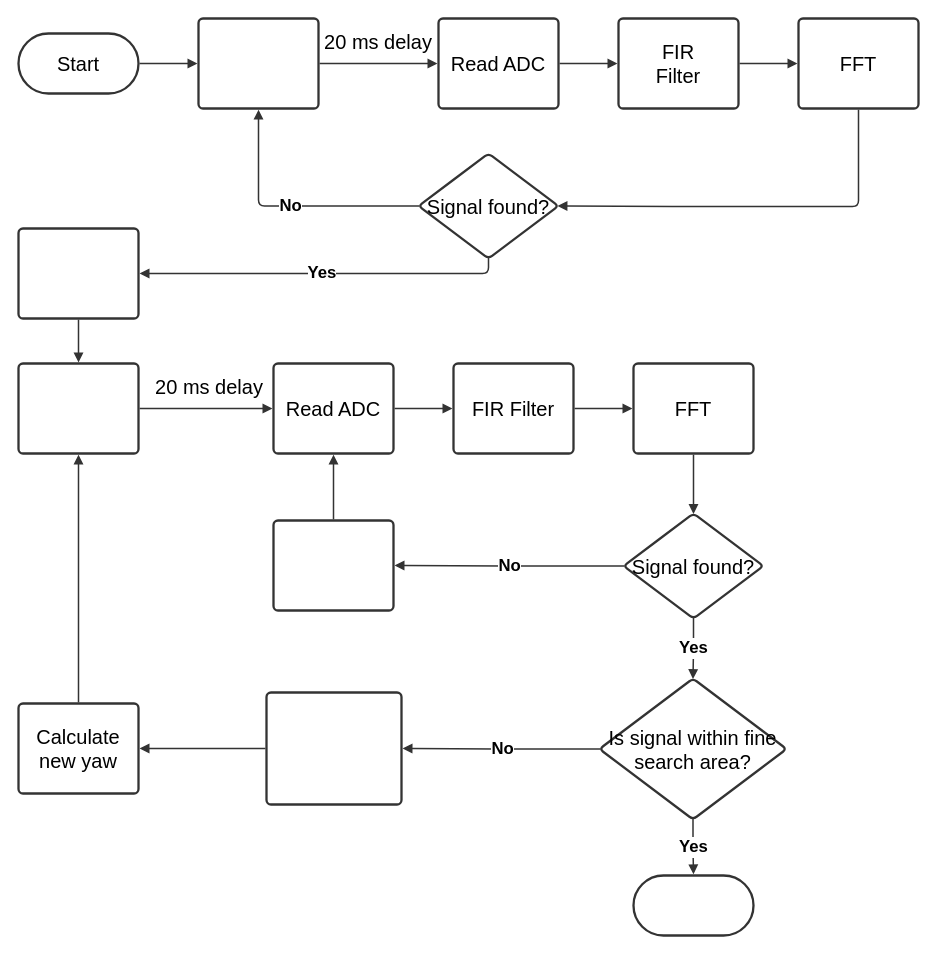
The diagram is 937 pixels wide and 954 high, and some of its shapes have lost their labels. Each missing label, with the box of its shape:
Calculate angle relative to field: (265, 691, 402, 805)
Keep current yaw: (272, 519, 394, 611)
Land Drone: (632, 874, 754, 936)
Set yaw and speed: (17, 362, 139, 454)
Signal Search: (197, 17, 319, 109)
Start Rough Search: (17, 227, 139, 319)
